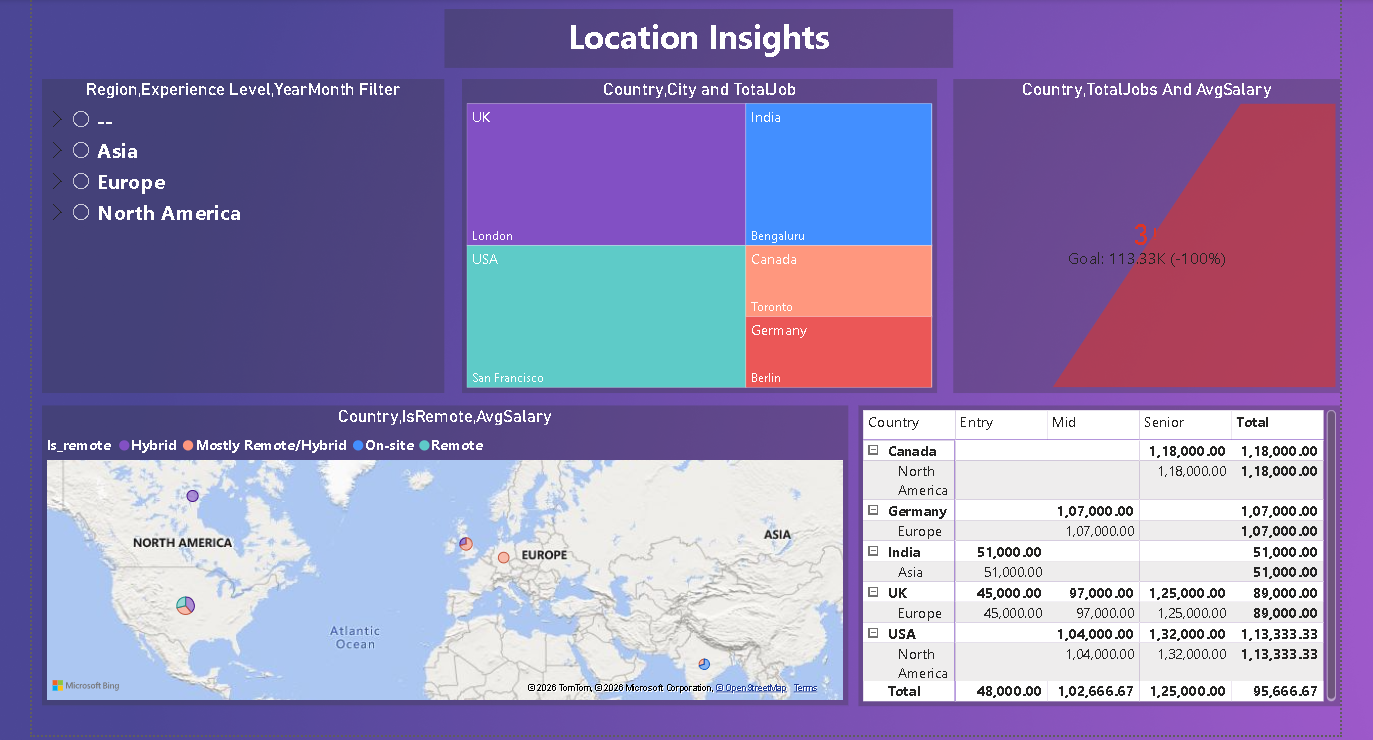

What the dashboard file says about the page in this screenshot:
{"tool":"powerbi","page":{"name":"Location_Insight","canvas":[1280,720],"ordinal":1},"visuals":[{"type":"textbox","box":[403.5,9.8,497.7,57.5],"z":0},{"type":"listSlicer","title":"Region,Experience Level,YearMonth Filter","fields":{"Values":["Dim_Locations.Region","Fact_Jobs.Experience_Level","Date_table.YearMonth"]},"box":[9.8,78.3,393.8,306.9],"z":1000},{"type":"map","title":"Country,IsRemote,AvgSalary","fields":{"Category":["Dim_Locations.Country"],"Size":["Fact_Jobs.AvgSalaryCompany"],"Series":["Fact_Jobs.Is_remote"]},"box":[9.8,397.4,788.7,293.5],"z":2000},{"type":"kpi","title":"Country,TotalJobs And AvgSalary","fields":{"TrendLine":["Dim_Locations.Country"],"Indicator":["Fact_Jobs.Total_Jobs"],"Goal":["Fact_Jobs.AvgSalaryCompany"]},"box":[900.9,78.3,379.1,306.9],"z":3000},{"type":"treemap","title":"Country,City and TotalJob ","fields":{"Group":["Dim_Locations.Country"],"Details":["Dim_Locations.City"],"Values":["Fact_Jobs.Total_Jobs"]},"box":[420.7,78.3,464.7,306.9],"z":4000},{"type":"pivotTable","title":"Region,Country and  City Avg Sal,Exp. Level wise","fields":{"Rows":["Dim_Locations.Country","Dim_Locations.Region"],"Values":["Fact_Jobs.AvgSalaryCompany"],"Columns":["Fact_Jobs.Experience_Level"]},"box":[808.3,397.4,472,294.7],"z":5000}]}

Visuals, with their boxes on the page's 1280x720 design canvas (x1, y1, x2, y2). These are canvas units, not pixel positions in the 1373x740 screenshot, which may show the page scaled, cropped or inside an application window:
textbox: region(404, 10, 901, 67)
"Region,Experience Level,YearMonth Filter" listSlicer: region(10, 78, 404, 385)
"Country,IsRemote,AvgSalary" map: region(10, 397, 798, 691)
"Country,TotalJobs And AvgSalary" kpi: region(901, 78, 1280, 385)
"Country,City and TotalJob " treemap: region(421, 78, 885, 385)
"Region,Country and  City Avg Sal,Exp. Level wise" pivotTable: region(808, 397, 1280, 692)
